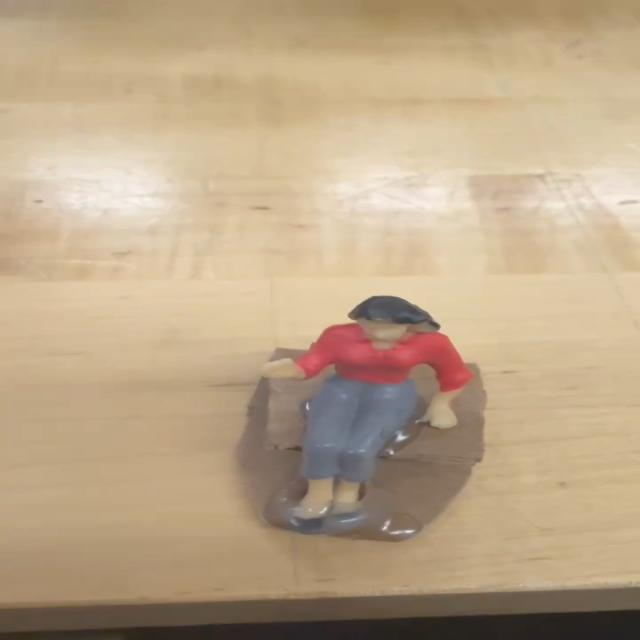Authorized: (249, 283, 488, 531)
